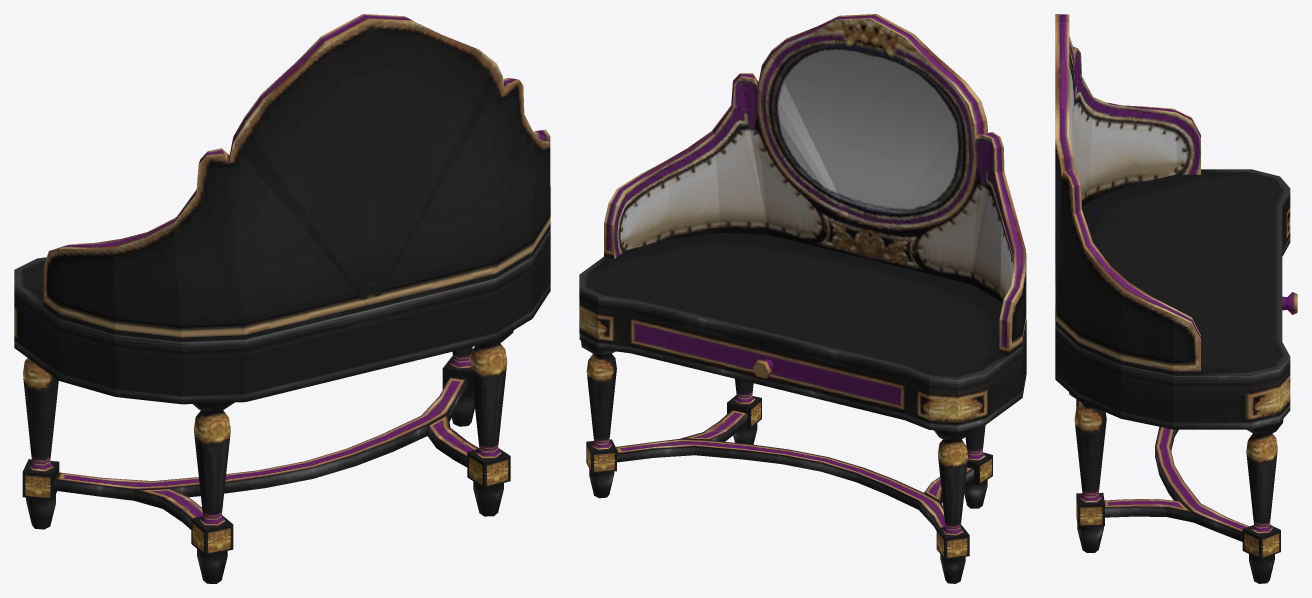
File: furni_0201217_02.FBX
The picture shows the model from 3 angles, left to right: view 1: azimuth 30°, elevation 25°; view 2: azimuth 150°, elevation 25°; view 3: azimuth 270°, elevation 25°; orthographic projection. The views are drawn at different scales.
Visible parts, largest first — view 1: furni_0201217_02; view 2: furni_0201217_02; view 3: furni_0201217_02.
Part boxes in pixels (box(x1,y1,x2,y2)): furni_0201217_02: box(14, 14, 550, 583); furni_0201217_02: box(579, 14, 1026, 583); furni_0201217_02: box(1055, 14, 1297, 583).
Size of the model in its own units: 161 by 172 by 80.23.
